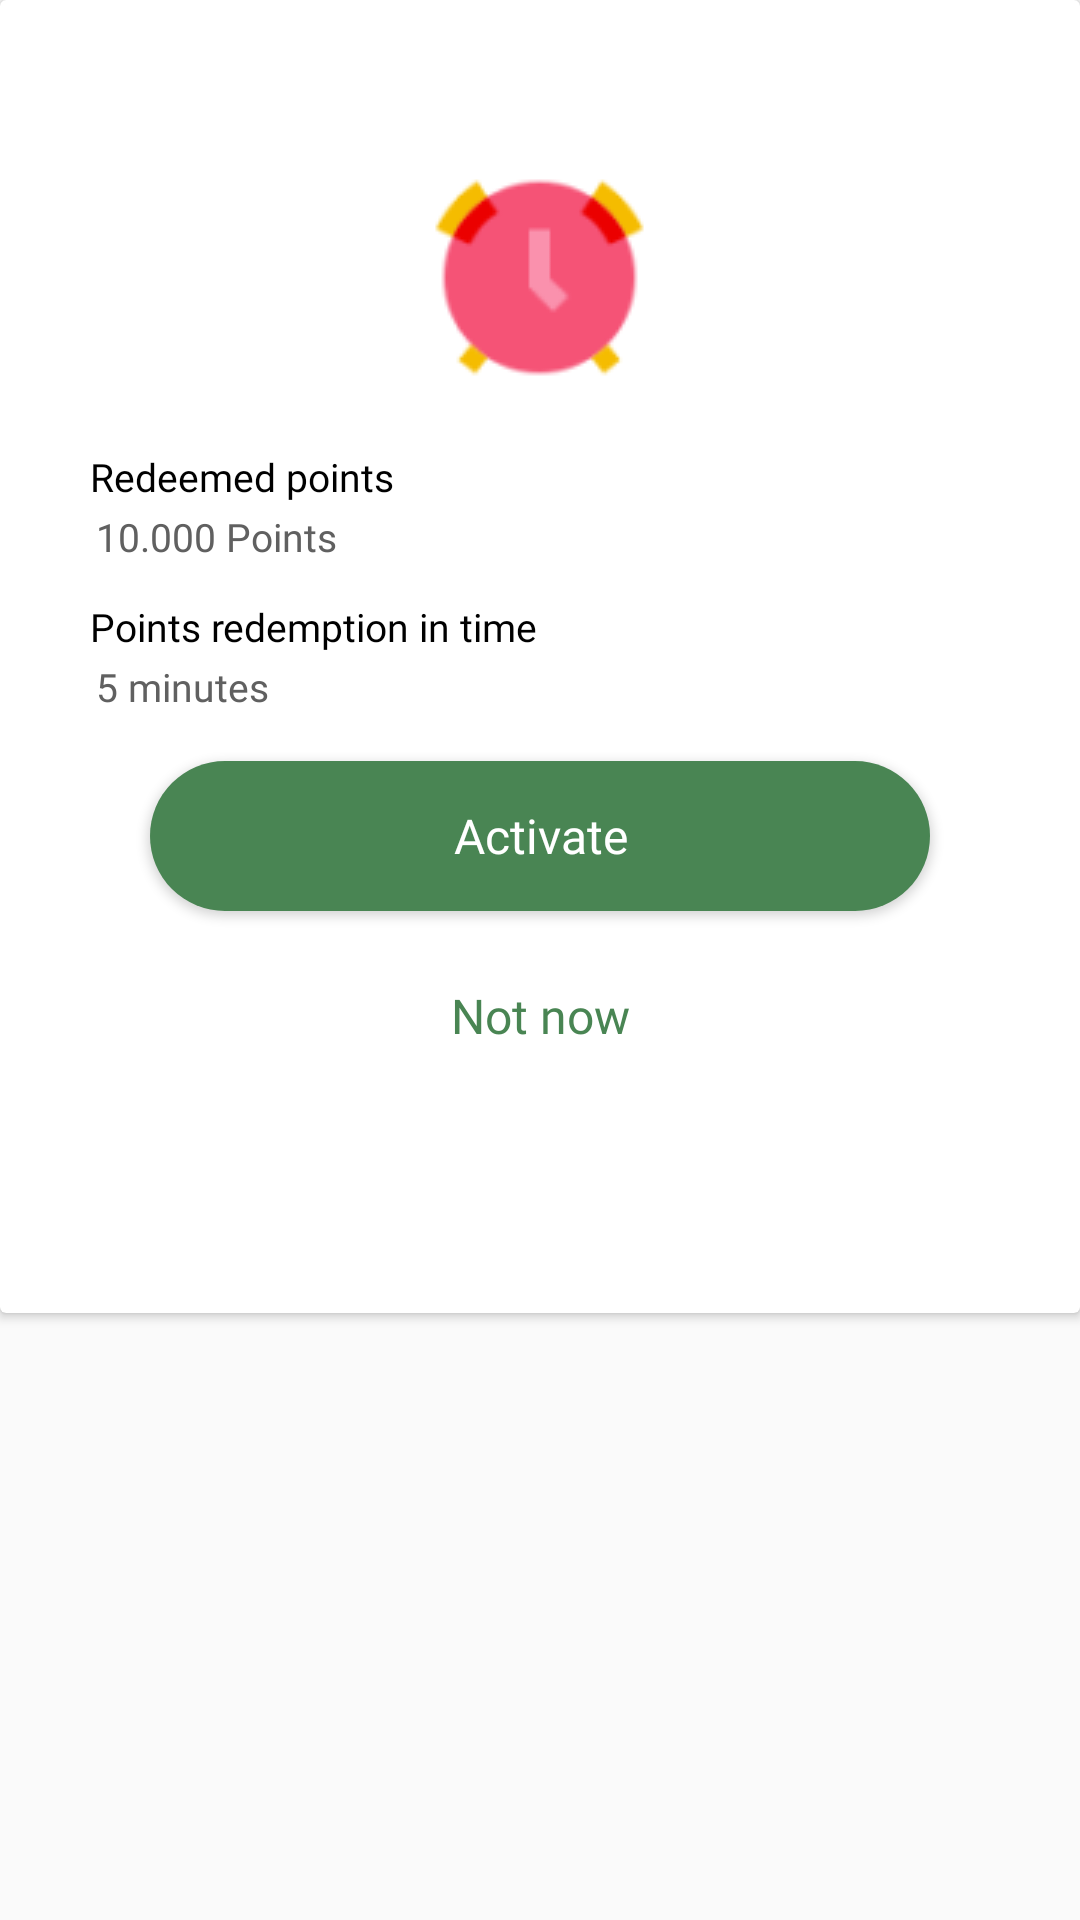

Icon bounding boxes for this 1080px x 1920px phone screenshot, format (x1, y1, x2, y2):
alarm clock: (435, 180, 644, 375)
